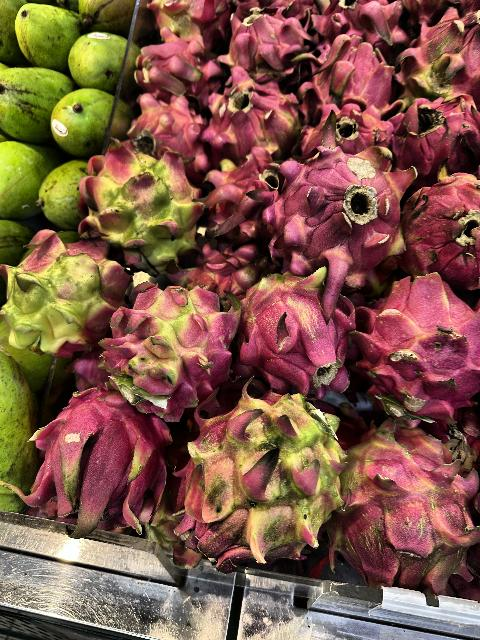buah-naga-belum-matang: (173, 386, 351, 574), (346, 408, 474, 580), (99, 272, 228, 408), (6, 228, 124, 354), (238, 268, 356, 387), (88, 146, 204, 262), (400, 14, 480, 100)
buah-naga-matang: (269, 134, 409, 274), (34, 382, 170, 524), (360, 267, 480, 415), (402, 165, 480, 278), (385, 90, 477, 174), (201, 148, 289, 235), (210, 67, 292, 151), (221, 9, 313, 80), (306, 38, 396, 108), (123, 89, 203, 165), (140, 21, 208, 90), (314, 0, 406, 50), (303, 100, 383, 154), (147, 0, 233, 44)
